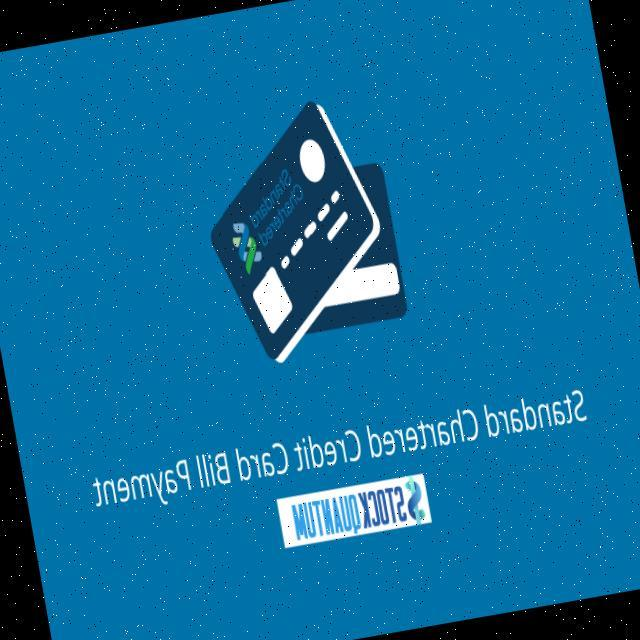Standard Chartered: (215, 157, 316, 280)
